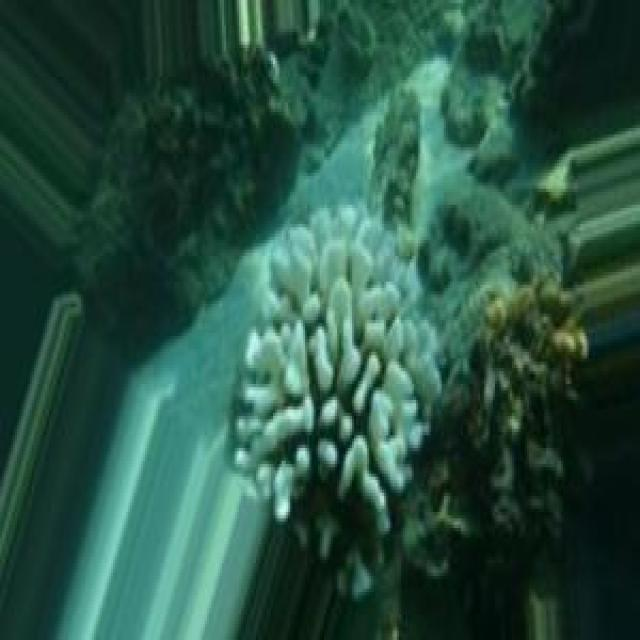Bleached: (234, 206, 438, 558)
